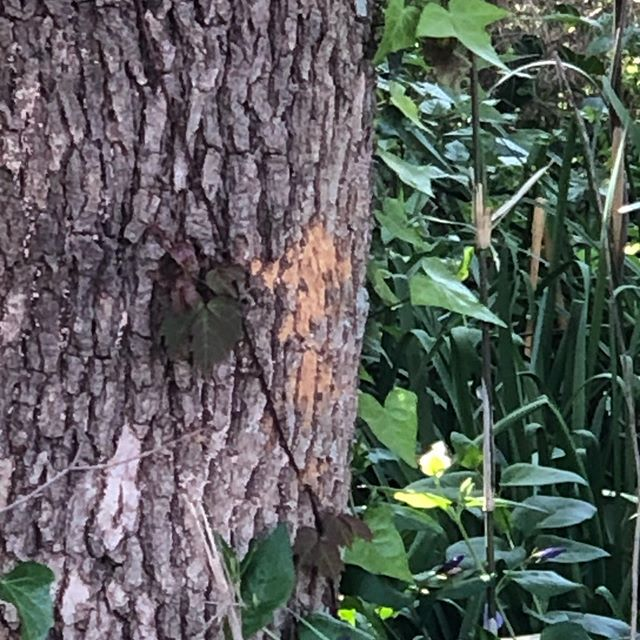tree: (1, 7, 372, 640)
vegetation: (370, 1, 640, 615)
